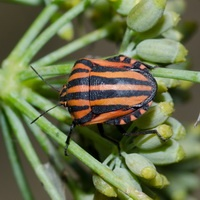insect: (59, 55, 156, 144)
